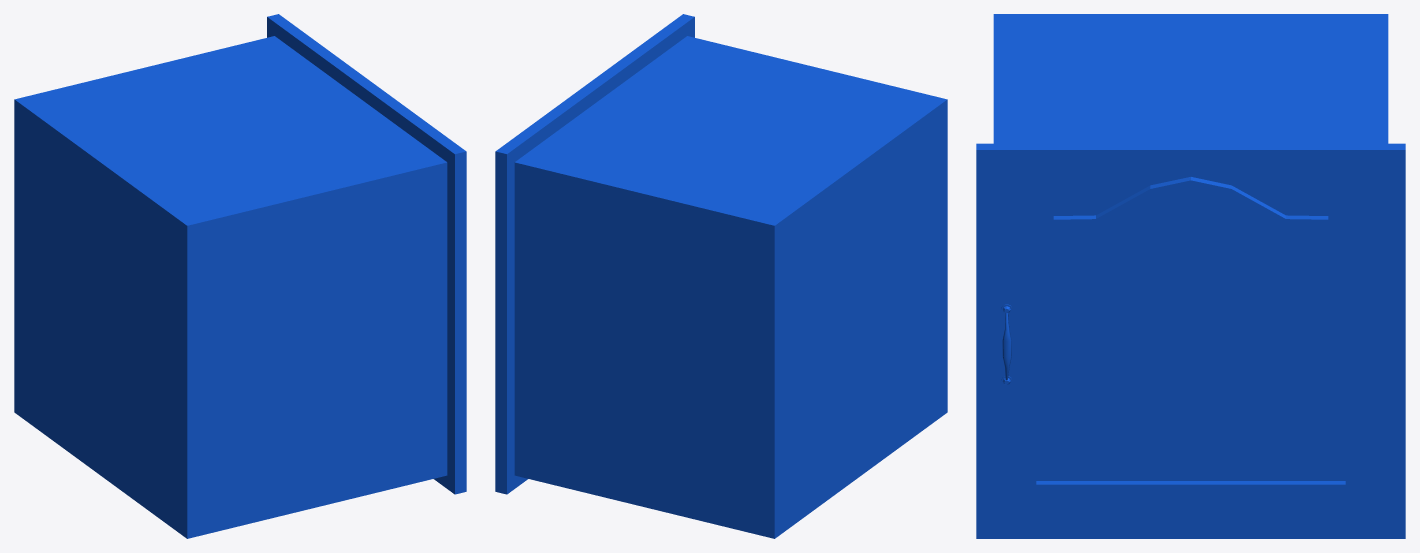
File: ArmarioUnico_Low.fbx
3 views of the same model, side by side, from view 1: azimuth 30°, elevation 25°; view 2: azimuth 150°, elevation 25°; view 3: azimuth 270°, elevation 25° (orthographic). The views are drawn at different scales.
Parts seen in each view (by area): view 1: Base_Low, Puerta_Low; view 2: Base_Low, Puerta_Low; view 3: Puerta_Low, Base_Low.
Boxes of the visible parts, <box> form: Base_Low: <box>14,36,447,538</box>; Puerta_Low: <box>267,14,466,494</box>; Base_Low: <box>514,36,947,538</box>; Puerta_Low: <box>495,14,694,494</box>; Puerta_Low: <box>976,143,1405,538</box>; Base_Low: <box>993,14,1388,143</box>.
Bounding box in the file's own units: 43.09 × 50 × 50.
